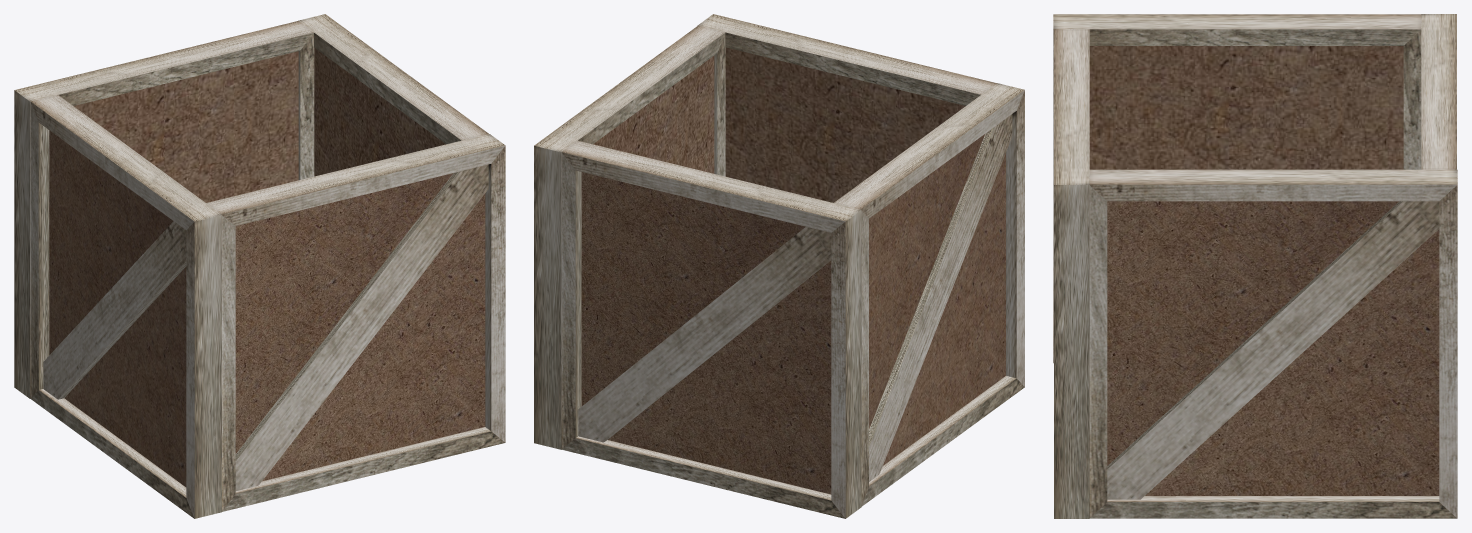
File: crate_open.fbx
3 renders of one model, left to right at view 1: azimuth 30°, elevation 25°; view 2: azimuth 150°, elevation 25°; view 3: azimuth 270°, elevation 25°, orthographic. The views are drawn at different scales.
Visible parts, largest first — view 1: CratePanel.002, CratePanel.001, CratePanel.000, CratePanel.003; view 2: CratePanel.000, CratePanel.001, CratePanel.002, CratePanel.003; view 3: CratePanel.003, CratePanel.001, CratePanel.002, CratePanel.000.
Boxes of the visible parts, x1,y1,x2,y2 form: CratePanel.002: [206, 134, 505, 511]; CratePanel.001: [30, 95, 221, 518]; CratePanel.000: [14, 21, 314, 398]; CratePanel.003: [298, 14, 488, 176]; CratePanel.000: [562, 140, 861, 518]; CratePanel.001: [834, 83, 1024, 506]; CratePanel.002: [697, 14, 996, 202]; CratePanel.003: [534, 25, 725, 449]; CratePanel.003: [1089, 169, 1457, 518]; CratePanel.001: [1053, 14, 1421, 363]; CratePanel.002: [1054, 29, 1089, 518]; CratePanel.000: [1421, 14, 1456, 169].
Bounding box in the file's own units: 113 × 103 × 113.
Materials: 1 (1 with a texture image).
